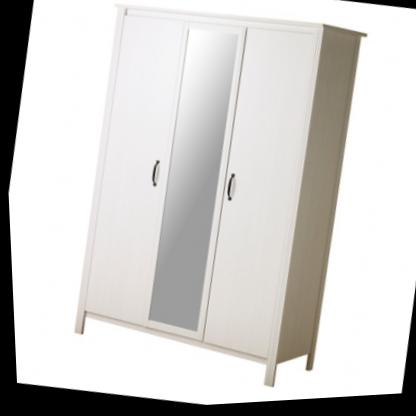Cabinet: (46, 0, 383, 413)
